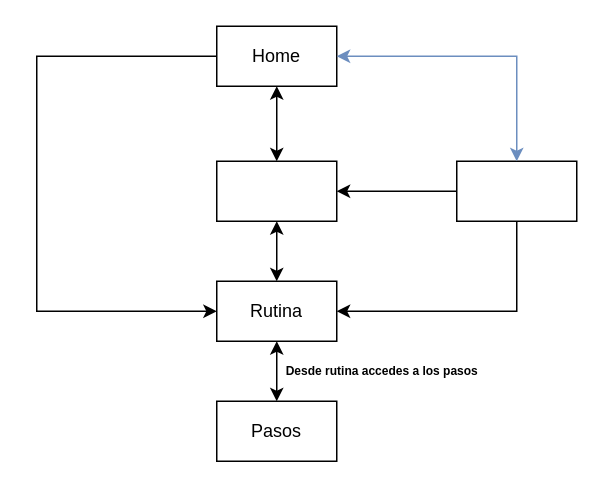
Some shapes in this 603 by 488 pixel diagram are drawn without their labels. Each missing label, with the box of its shape:
Biblioteca: (215, 160, 337, 221)
Buscador Juegos: (455, 160, 577, 221)
